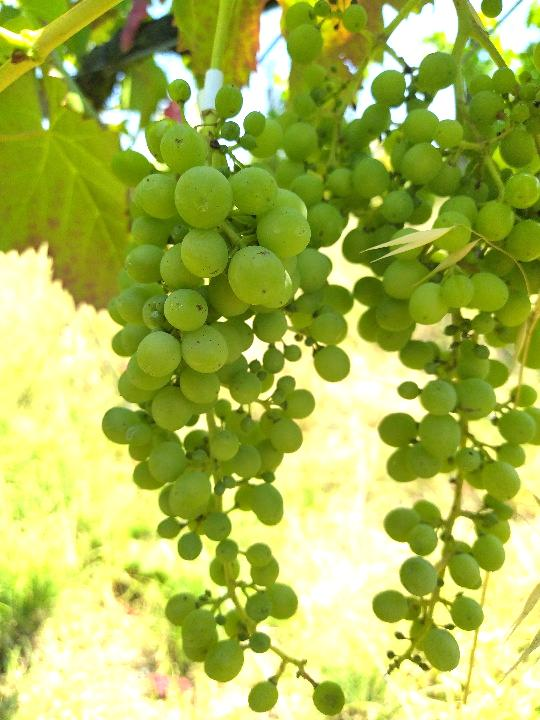grape: (96, 78, 351, 716)
